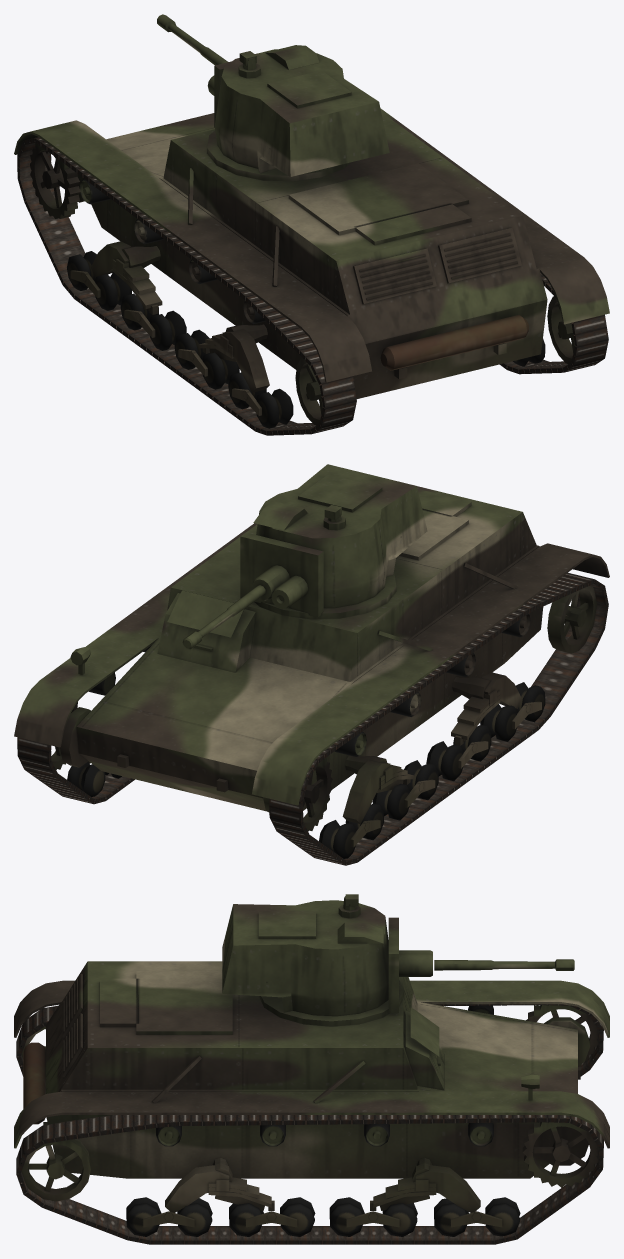
3 views of the same model, one above another, from view 1: azimuth 30°, elevation 25°; view 2: azimuth 150°, elevation 25°; view 3: azimuth 270°, elevation 25° (orthographic). The views are drawn at different scales.
Parts seen in each view (by area): view 1: Chassis, Tourelle_01, Chenille_Gauche_01, Chenille_Droite_01, Roue_G1, Roue_G10, Roue_G9, Roue_D10, Roue_G5, Roue_G3, Roue_G7, Canon_01 (+3 smaller); view 2: Chassis, Tourelle_01, Chenille_Gauche_01, Axe_Canon_01, Chenille_Droite_01, Roue_G10, Roue_G1, Canon_01, Roue_G6, Roue_G2, Roue_G8, Roue_D2 (+4 smaller); view 3: Chassis, Tourelle_01, Chenille_Droite_01, Roue_D1, Roue_D10, Axe_Canon_01, Chenille_Gauche_01, Canon_01, Roue_D5, Roue_D6, Roue_D2, Roue_D9 (+5 smaller).
Boxes of the visible parts, box(x1,y1,x2,y2) form: Chassis: box(14, 108, 609, 415); Tourelle_01: box(207, 45, 389, 181); Chenille_Gauche_01: box(17, 137, 356, 435); Chenille_Droite_01: box(499, 273, 608, 374); Roue_G1: box(30, 143, 80, 218); Roue_G10: box(295, 358, 322, 425); Roue_G9: box(256, 388, 293, 428); Roue_D10: box(547, 296, 574, 365); Roue_G5: box(149, 310, 186, 350); Roue_G3: box(95, 272, 131, 310); Roue_G7: box(202, 352, 239, 389); Canon_01: box(157, 14, 227, 65); Chassis: box(14, 486, 609, 847); Tourelle_01: box(253, 464, 427, 619); Chenille_Gauche_01: box(269, 573, 608, 865); Axe_Canon_01: box(240, 532, 323, 616); Chenille_Droite_01: box(17, 737, 134, 804); Roue_G10: box(547, 585, 596, 653); Roue_G1: box(303, 757, 332, 831); Canon_01: box(182, 585, 265, 649); Roue_G6: box(426, 741, 464, 781); Roue_G2: box(319, 820, 356, 858); Roue_G8: box(480, 704, 517, 741); Roue_D2: box(67, 762, 105, 796); Chassis: box(14, 961, 609, 1227); Tourelle_01: box(222, 894, 404, 1026); Chenille_Droite_01: box(16, 1115, 603, 1244); Roue_D1: box(522, 1122, 600, 1187); Roue_D10: box(20, 1139, 90, 1201); Axe_Canon_01: box(388, 917, 432, 1012); Chenille_Gauche_01: box(16, 1004, 603, 1076); Canon_01: box(434, 959, 574, 970); Roue_D5: box(329, 1197, 364, 1236); Roue_D6: box(280, 1197, 315, 1236); Roue_D2: box(485, 1197, 520, 1236); Roue_D9: box(126, 1197, 161, 1236).
Bounding box in the file's own units: 240 × 458 × 222.
3 materials, 3 textured.
